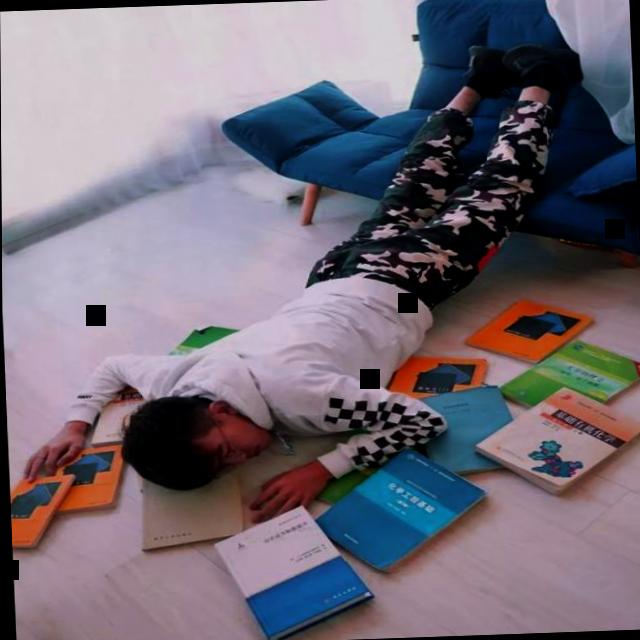Fall-Detected: (0, 8, 640, 557)
